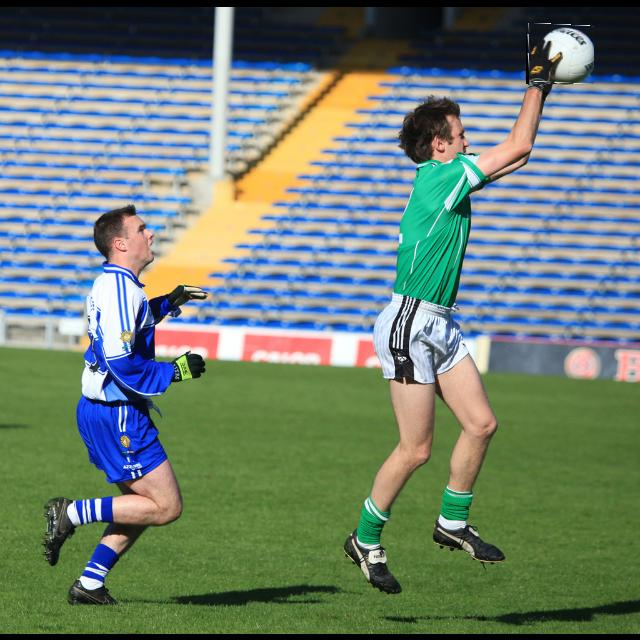Football: (526, 24, 594, 84)
